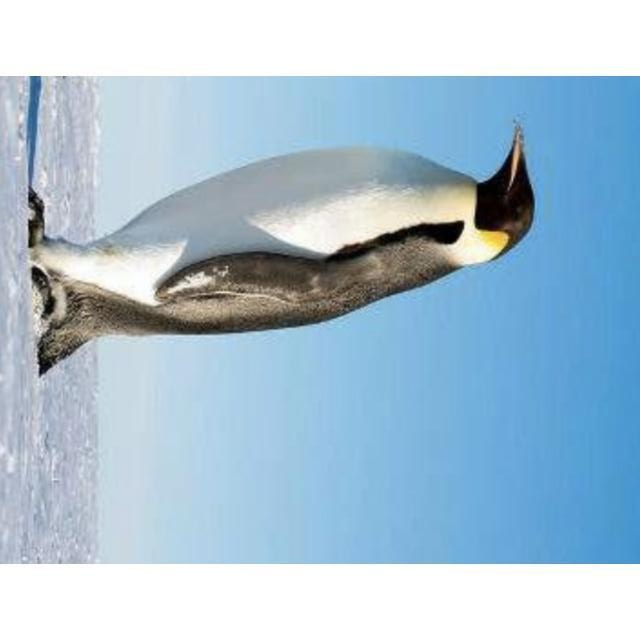penguin: (27, 115, 536, 377)
